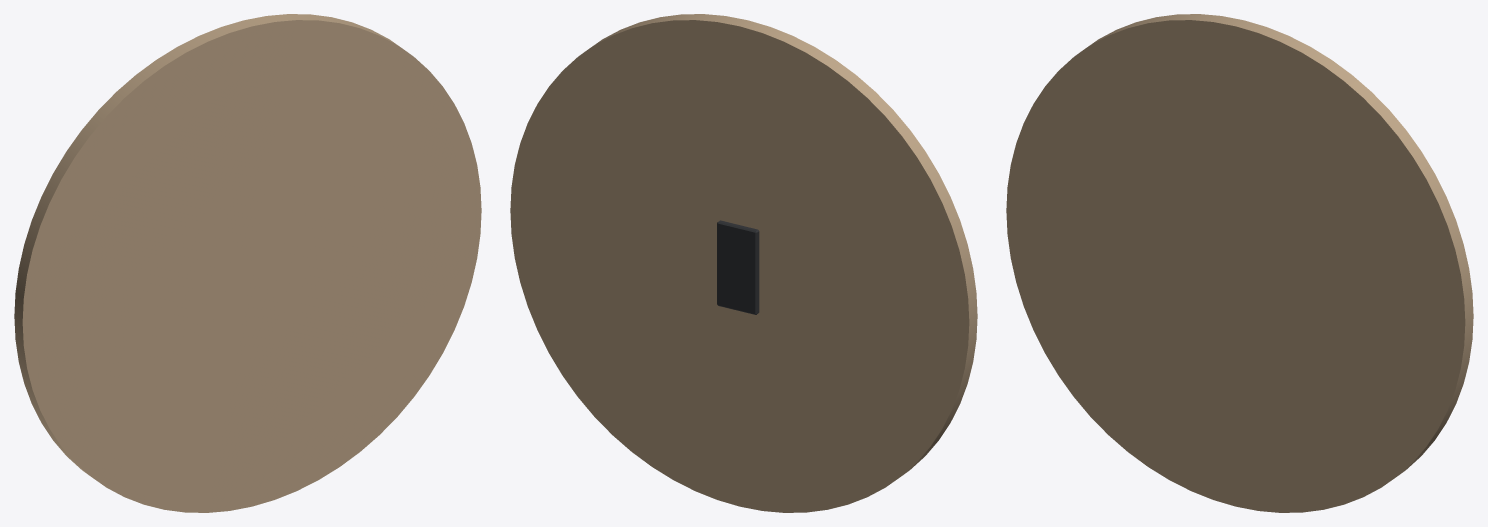
File: tilt_top_standing_table_table_top.glb
The picture shows the model from 3 angles, left to right: view 1: azimuth 30°, elevation 25°; view 2: azimuth 150°, elevation 25°; view 3: azimuth 330°, elevation 25°; orthographic projection.
Parts seen in each view (by area): view 1: export_tmp; view 2: export_tmp; view 3: export_tmp.
Boxes of the visible parts, x1,y1,x2,y2 form: export_tmp: (14,14,481,512); export_tmp: (510,14,977,512); export_tmp: (1006,14,1473,512).
Bounding box in the file's own units: 0.8 × 0.8 × 0.035.
